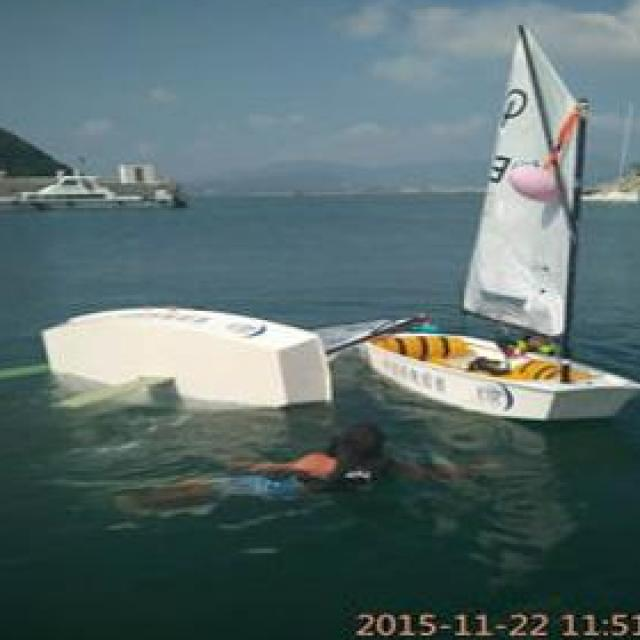houseboat: (13, 161, 175, 213)
sailboat: (368, 21, 640, 416), (38, 279, 426, 410)
